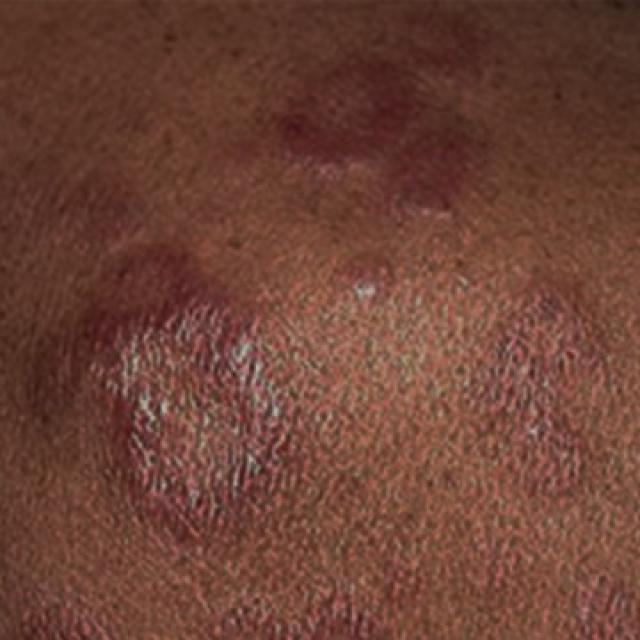Leprosy: (14, 231, 336, 541), (244, 0, 560, 194), (458, 263, 624, 526)
